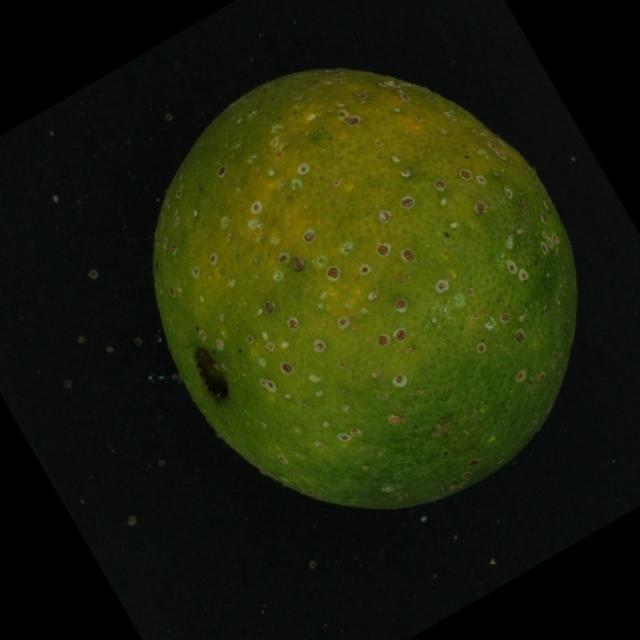grenning: (124, 40, 604, 539)
